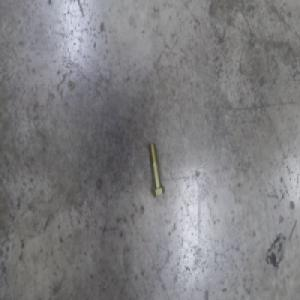Bolt: (146, 140, 163, 197)
